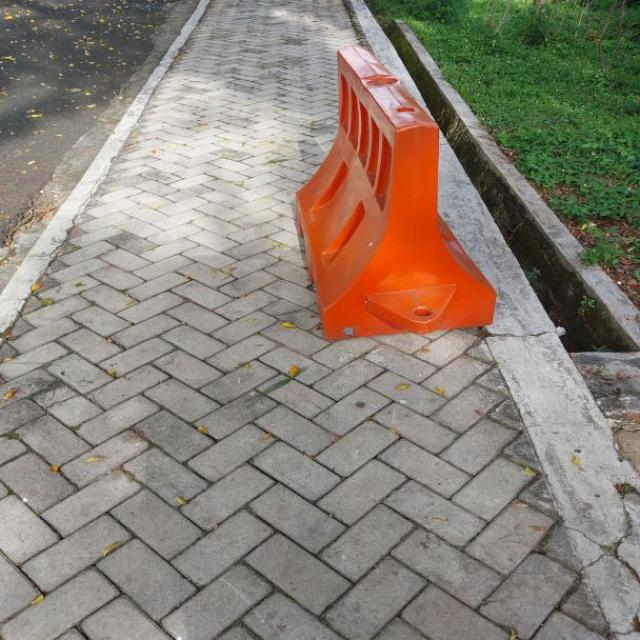barrier ahead at: (296, 43, 502, 344)
